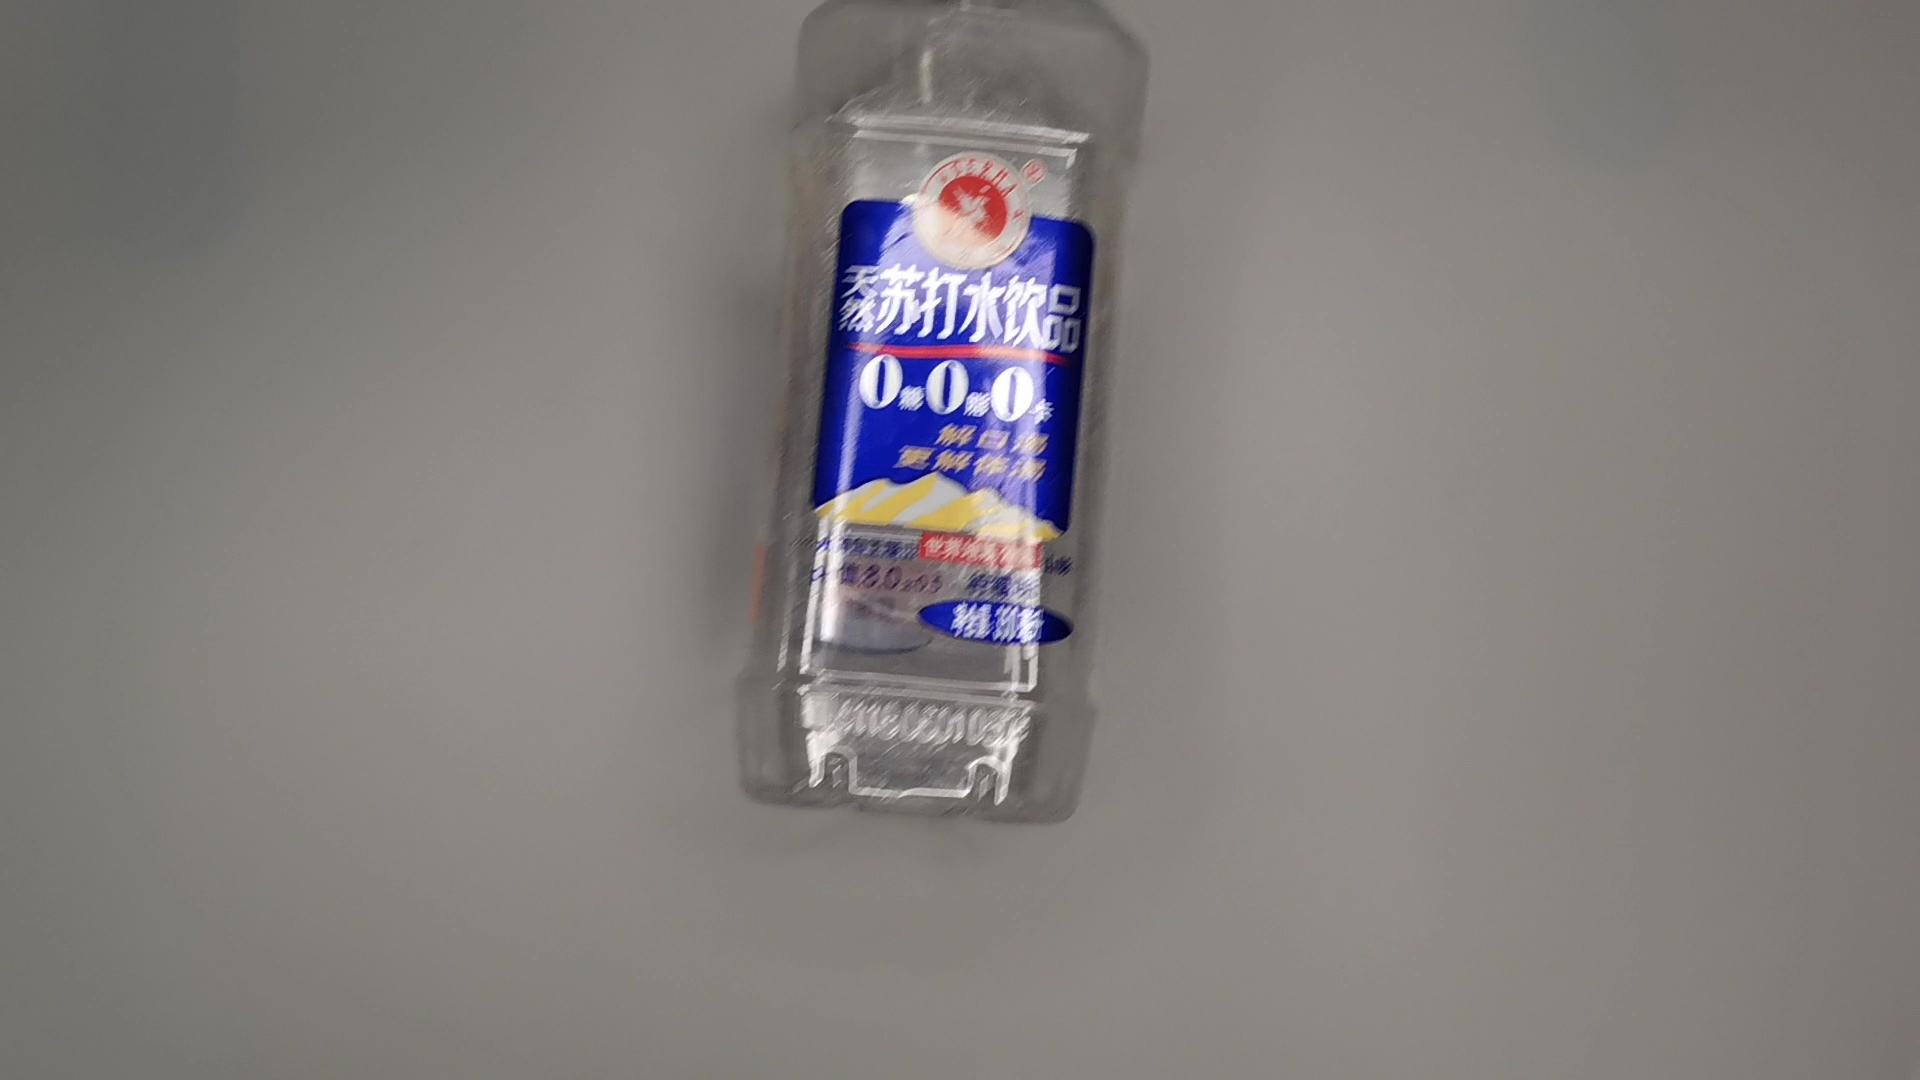bottle: (725, 1, 1149, 835)
